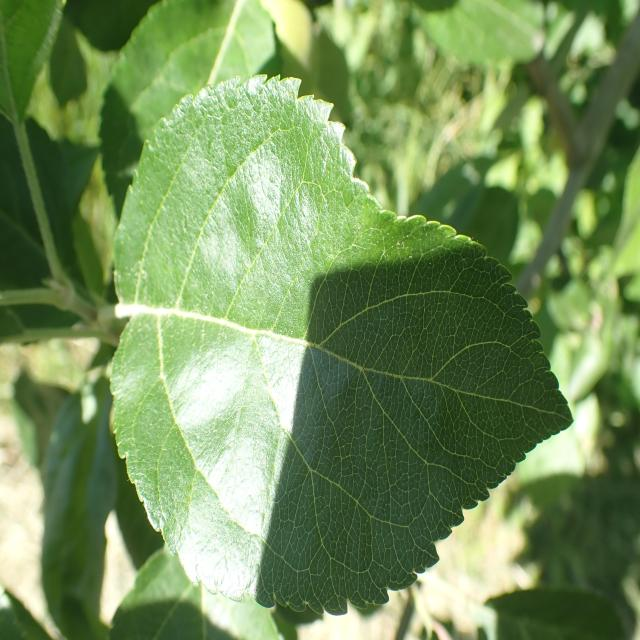healthy: (108, 74, 576, 617), (108, 546, 284, 640)
